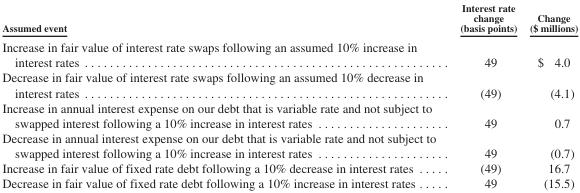table: (1, 1, 577, 190)
table column: (1, 1, 447, 190), (447, 1, 522, 190), (522, 1, 577, 190)
table column header: (1, 1, 577, 36)
table row: (1, 1, 577, 36), (1, 36, 577, 69), (1, 99, 577, 130), (1, 69, 577, 99), (1, 130, 577, 160), (1, 160, 577, 175), (1, 175, 577, 190)
